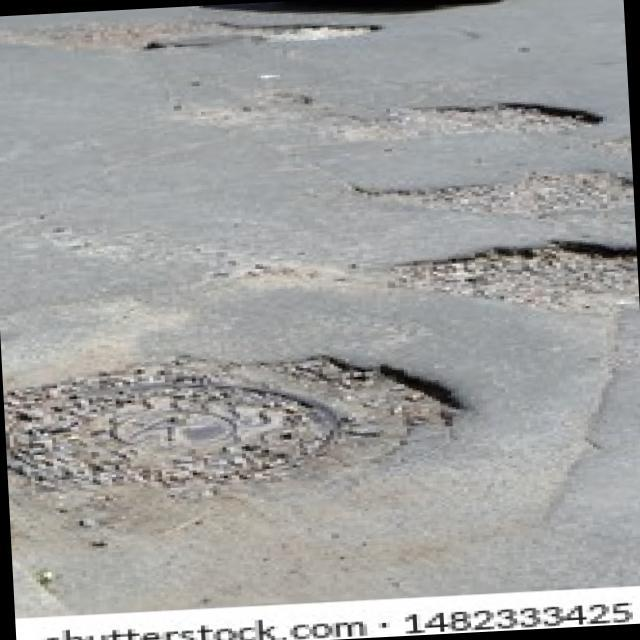Pothole: (245, 348, 466, 456), (386, 235, 640, 324), (0, 5, 386, 61), (351, 168, 635, 226), (320, 95, 607, 145), (208, 90, 314, 138), (592, 136, 632, 172)
